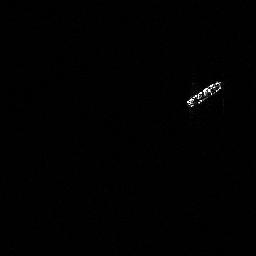ship: (187, 80, 222, 109)
